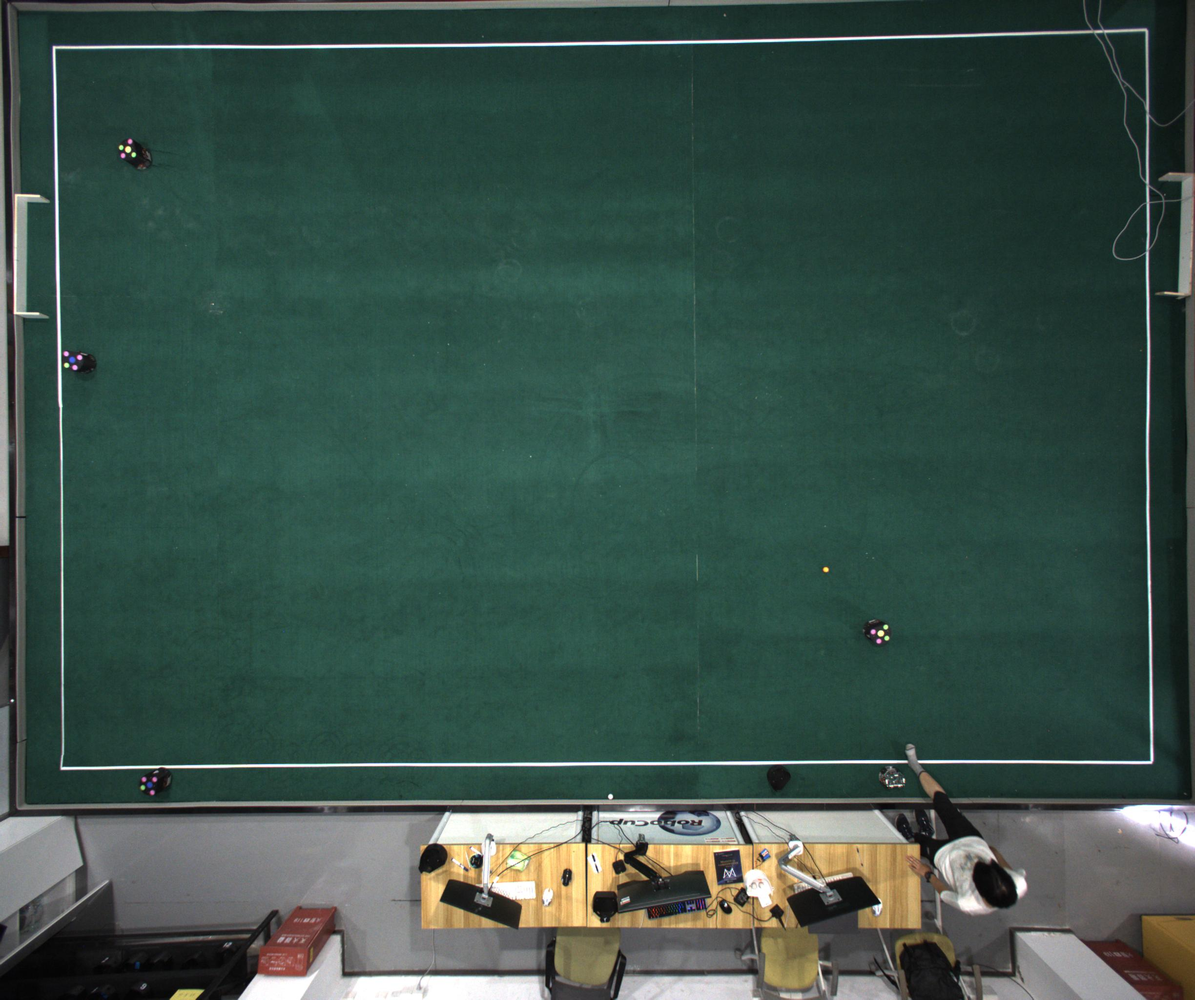ball: (822, 567, 830, 573)
blue_bot: (139, 775, 160, 796), (63, 351, 84, 371)
yellow_bot: (869, 624, 892, 644), (119, 138, 138, 161)
